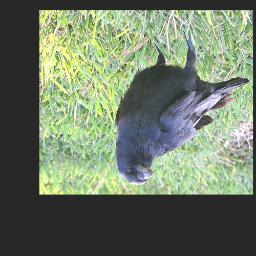Crow: (115, 28, 250, 186)
